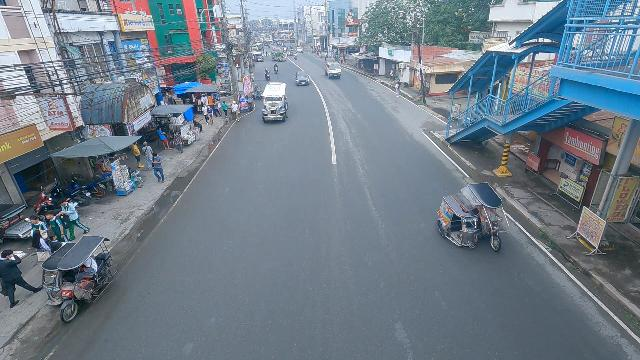car: (294, 69, 311, 88), (296, 47, 303, 53)
jeepney: (259, 81, 289, 125), (273, 50, 286, 62), (252, 51, 264, 62)
motorcycle: (251, 85, 263, 100), (264, 68, 270, 80), (273, 63, 279, 74), (293, 52, 298, 61)
truck: (322, 57, 342, 79)
